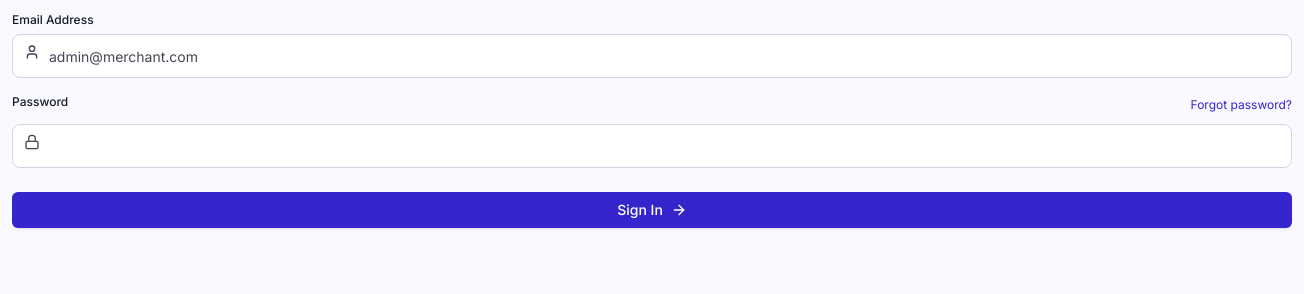
Test: LoginForm › displays client-side validation errors for invalid input and does not submit
Type "invalid-email" into the field with placeholder "admin@merchant.com" at (652, 56), box x1=12 y1=34 x2=1292 y2=78
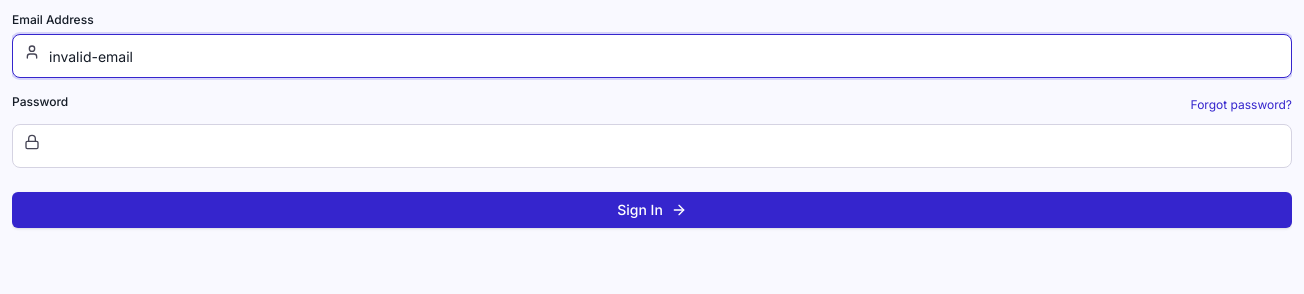
Click the button "Sign In" at (652, 210), box x1=12 y1=192 x2=1292 y2=228
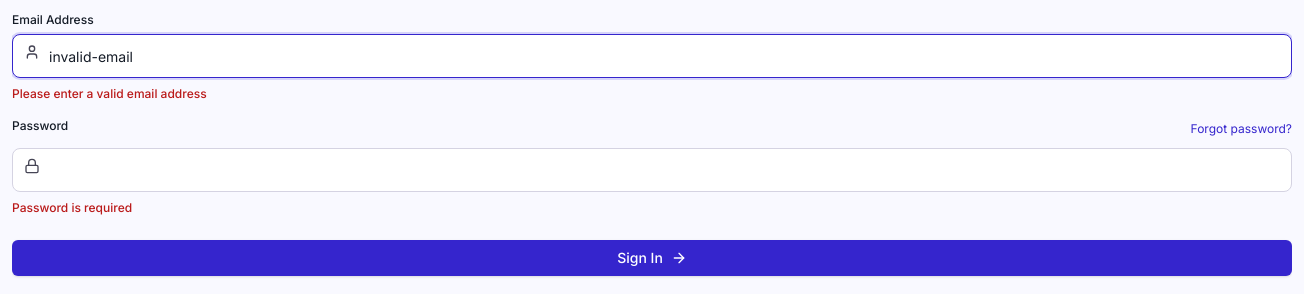
Expected: the text "Please enter a valid email address" is shown, x1=12 y1=86 x2=207 y2=101
Expected: the text "Password is required" is shown, x1=12 y1=200 x2=132 y2=215
